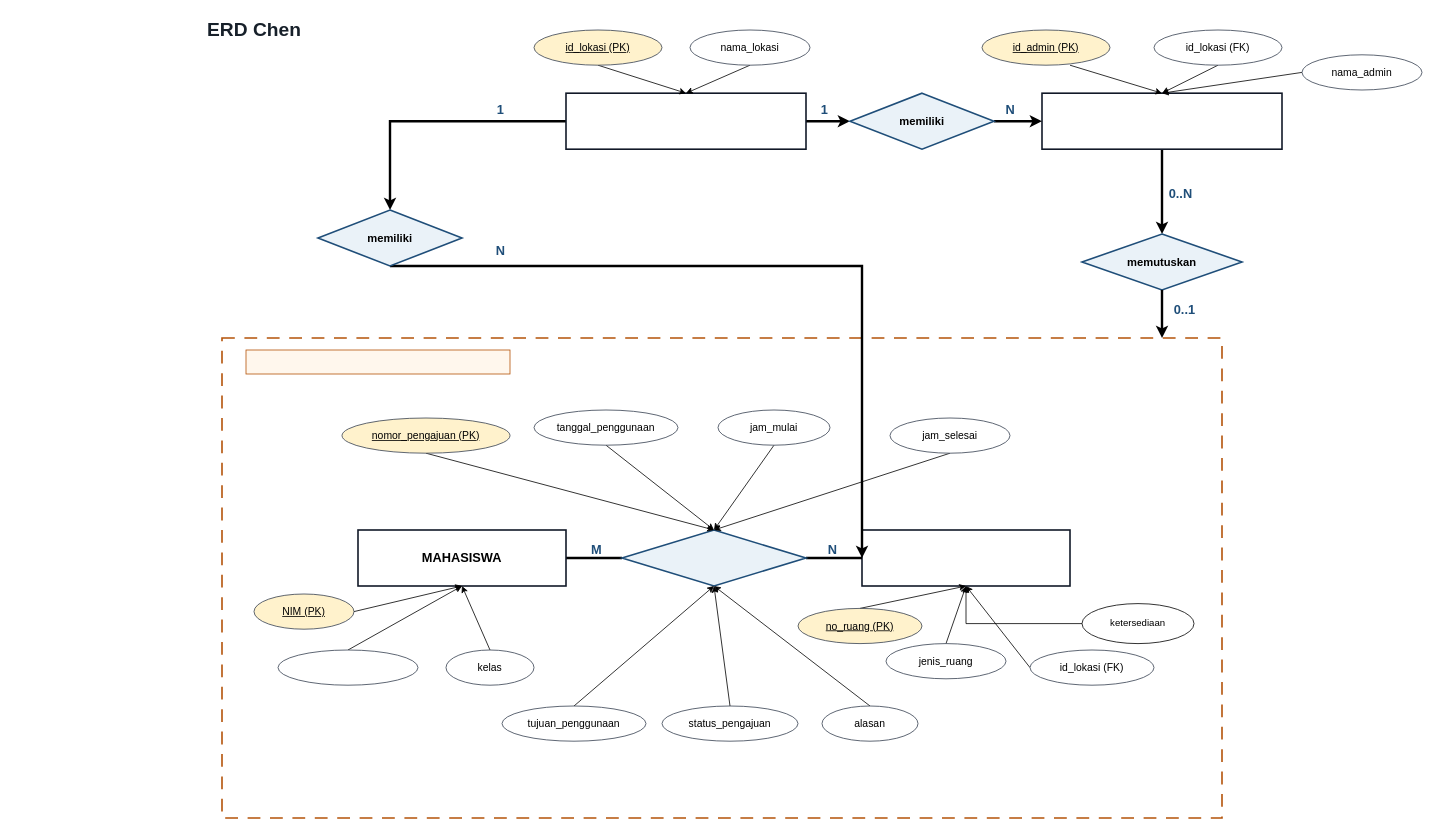
Image size: 1436x832. Some labels were removed from this diagram. The shapes that lost their labels are listed below. From the top down, each one's centre as x and y in pixels, then its label:
At (x=685, y=121): "LOKASI_KAMPUS".
At (x=1161, y=121): "ADMIN_LOKASI".
At (x=377, y=361): "AGREGASI: PENGAJUAN_RUANG".
At (x=713, y=557): "mengajukan".
At (x=965, y=557): "RUANG".
At (x=347, y=667): "nama_mahasiswa".
